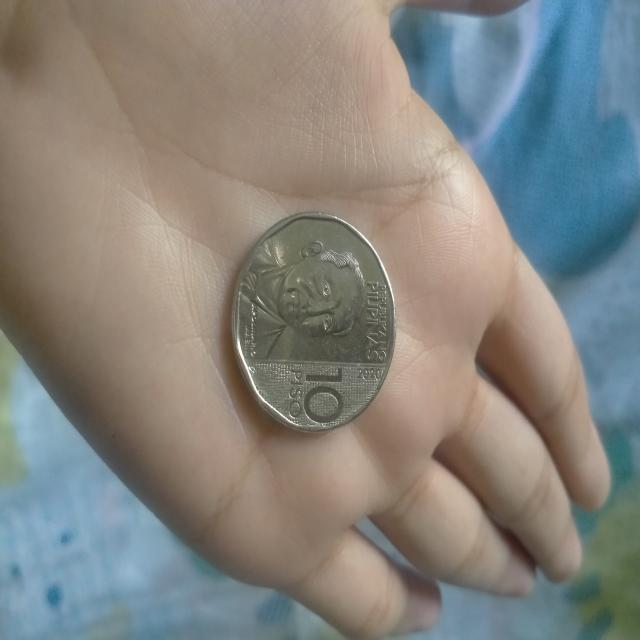10_New_Front: (253, 241, 381, 420)
